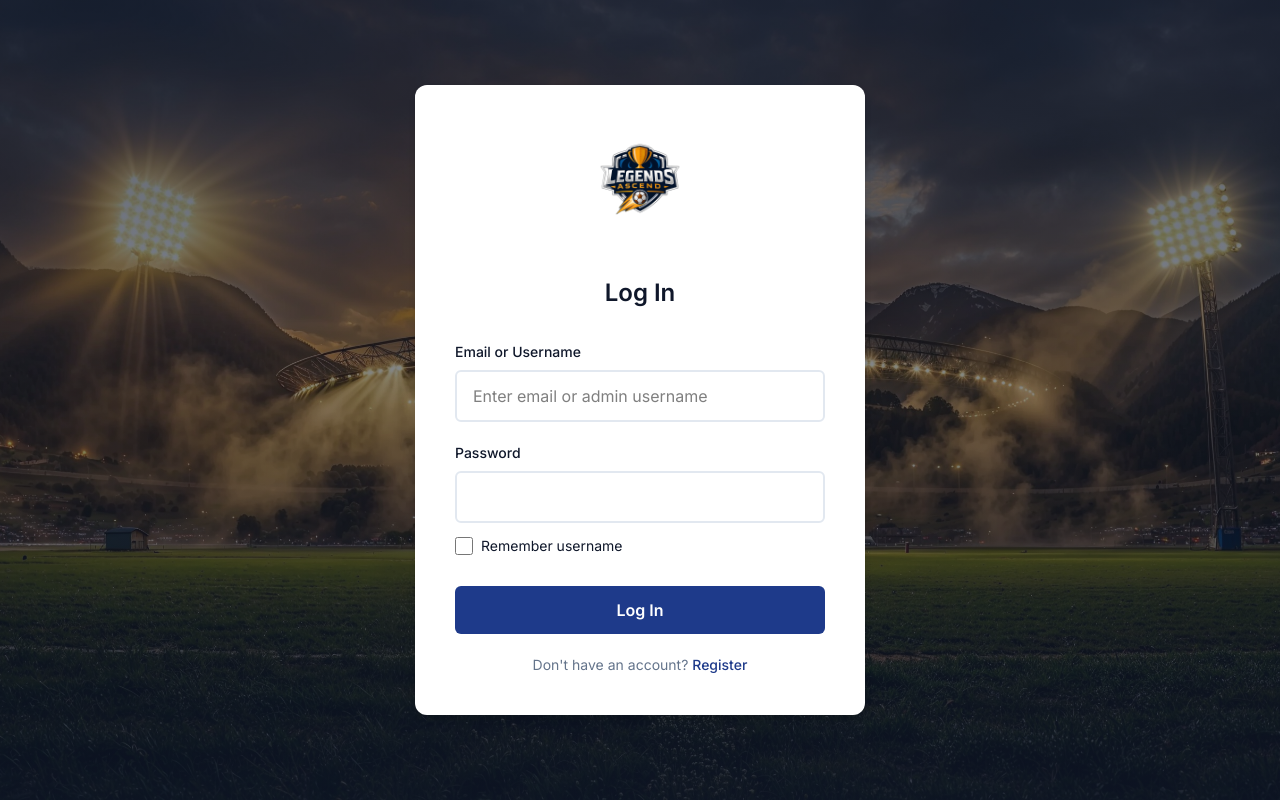
Test: LoginPage › should validate password is required
Step 1. Type "test@example.com" into the field labelled "Email or Username" → (640, 396), box [455,370,825,422]
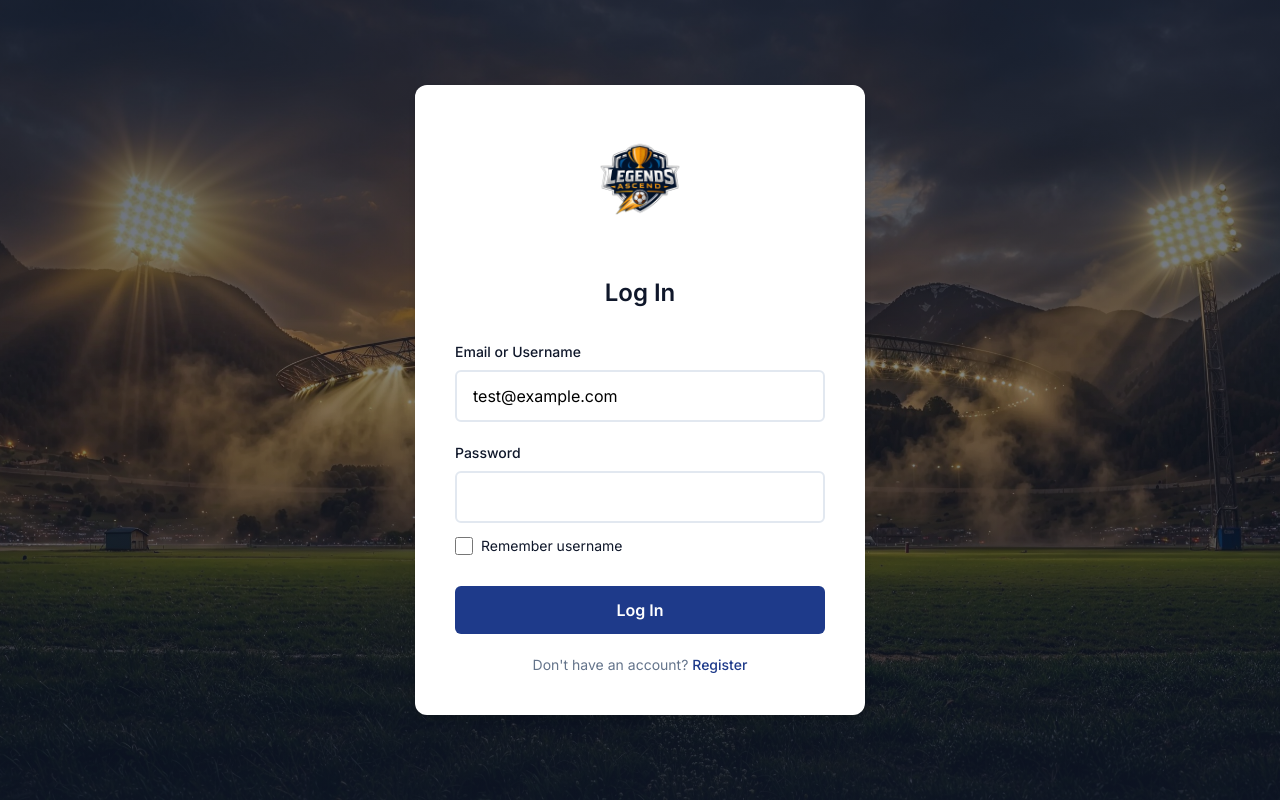
Step 2. Click the button "Log In" → (640, 610), box [455,586,825,634]
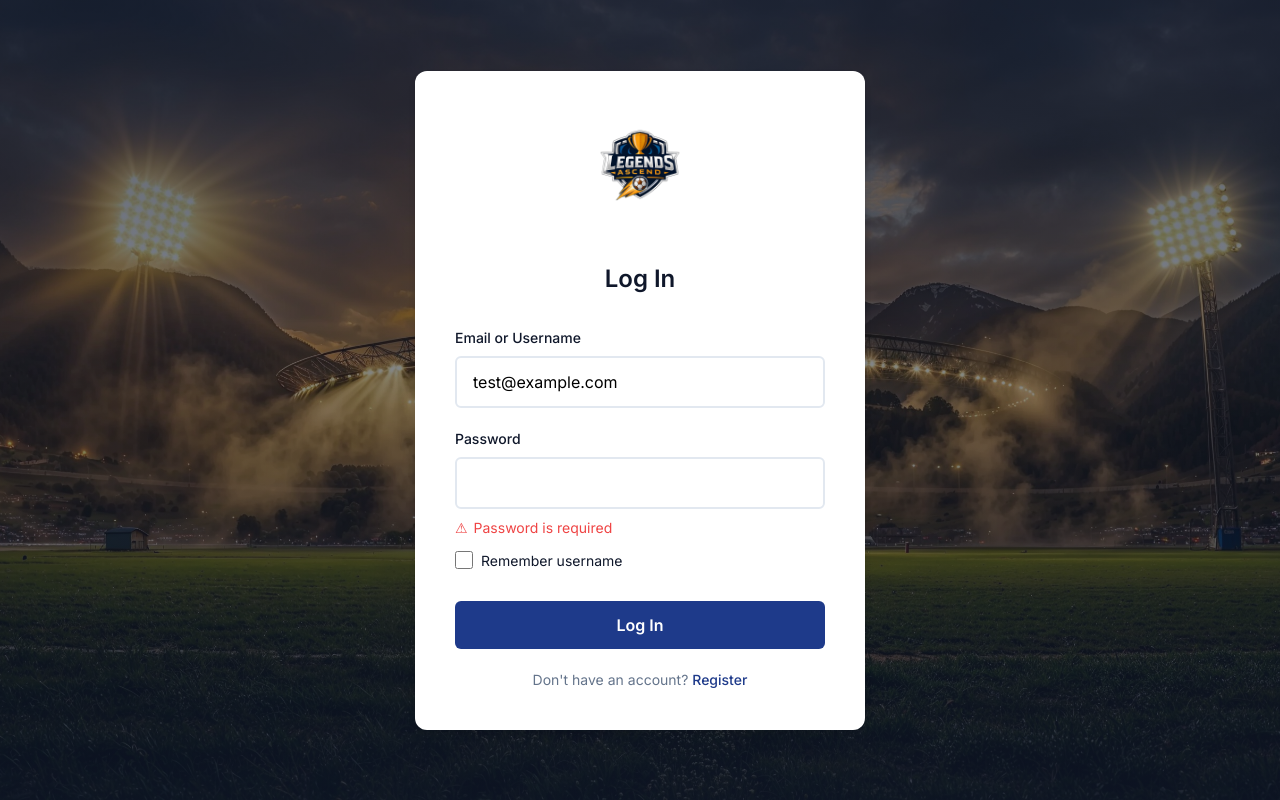
Now the text "Password is required" is shown, box [474,518,612,536]
